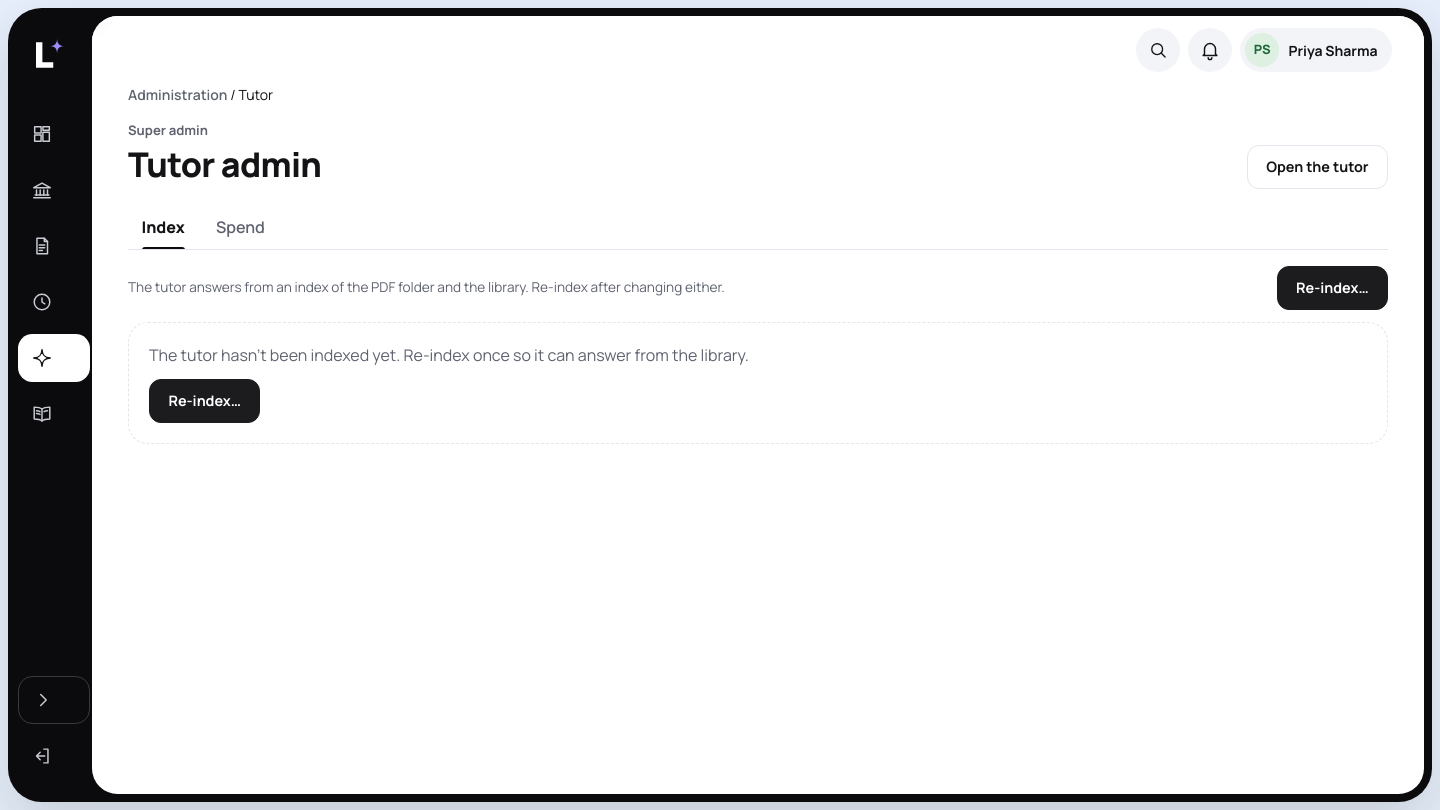
Test: index tab › treats INDEX_RUN_IN_PROGRESS as "already running" and shows that run
The width and height of the screenshot is (1440, 810).
Expected: the text "hasn.t been indexed yet" is shown, [149, 344, 749, 366]
Click the 1st button "Re-index…" at (1332,288), box [1277, 266, 1388, 310]
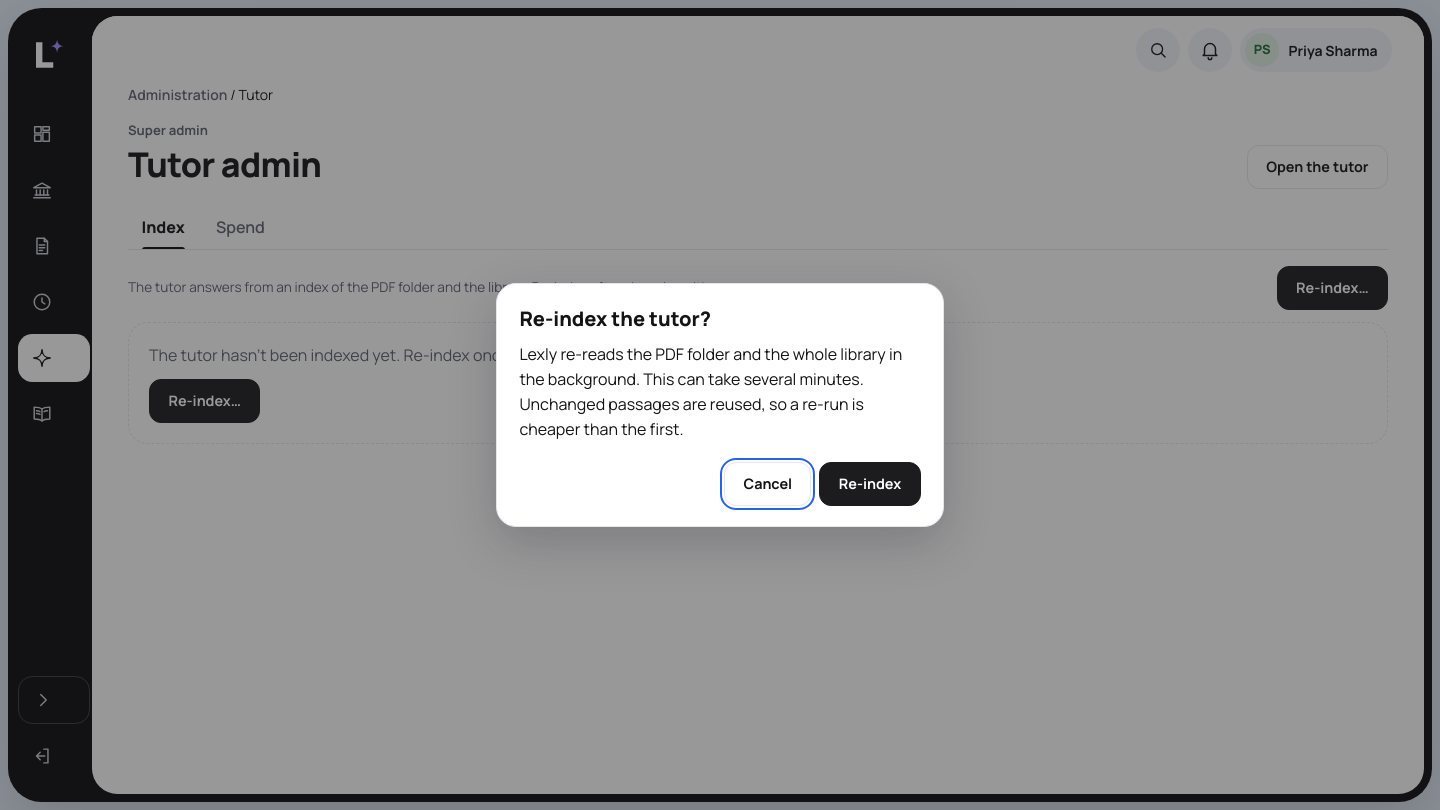
Click the button "Re-index" at (870,484), box [820, 462, 921, 506]
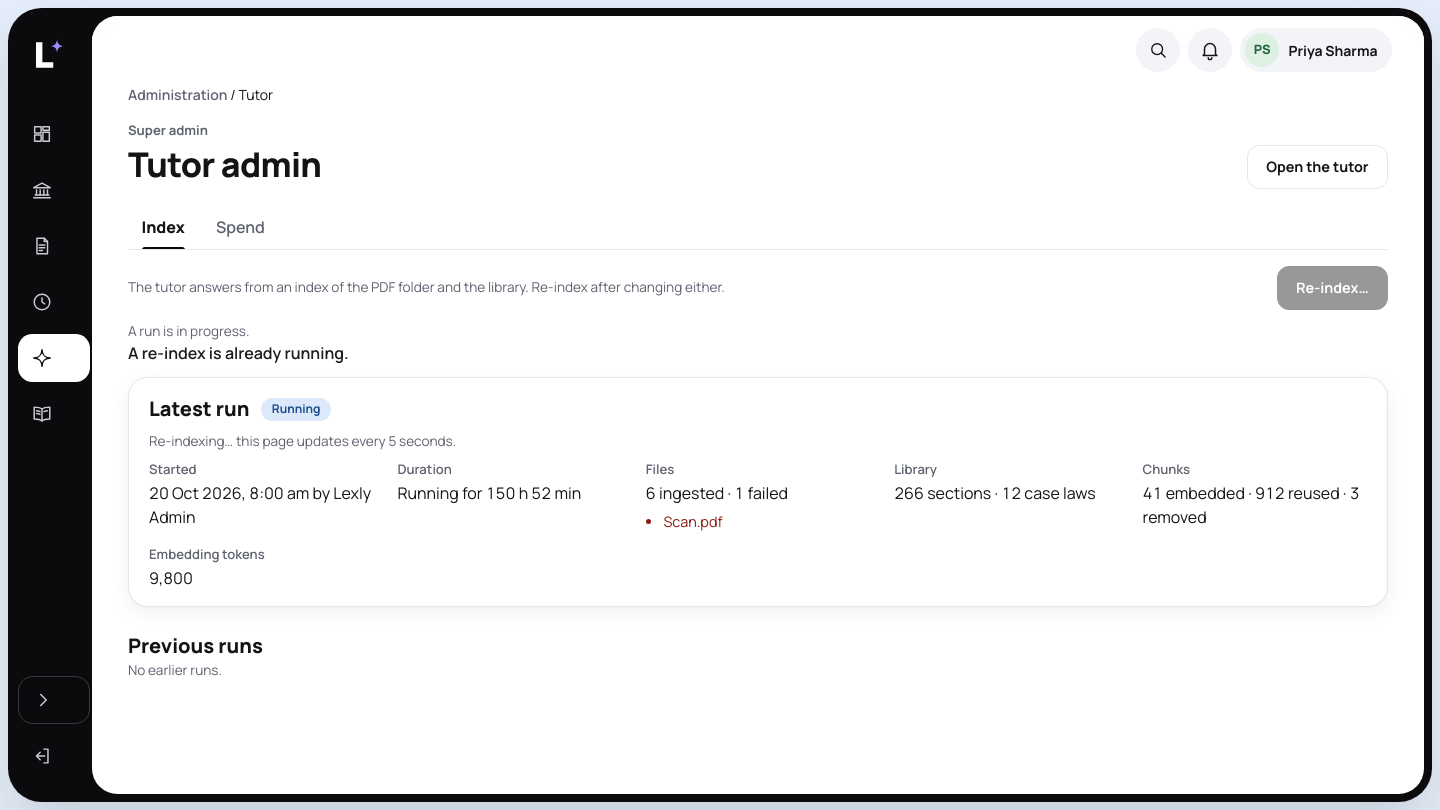
Expected: the text "A re-index is already running." is shown, [128, 342, 348, 364]
Expected: the text "Running" is shown, [261, 398, 331, 421]
Expected: the dialog is gone
